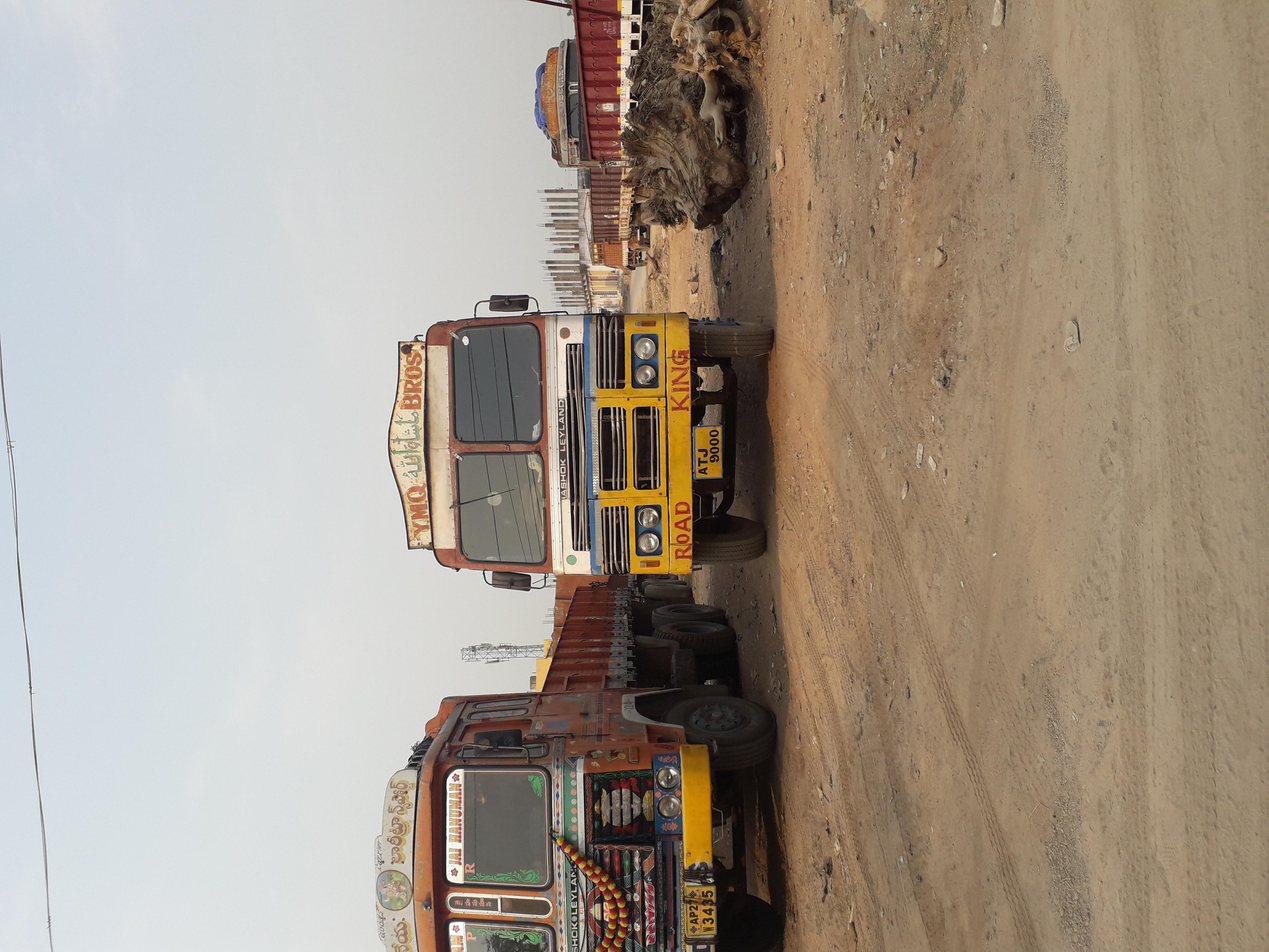license plate: (629, 521, 702, 543), (22, 513, 87, 537)
